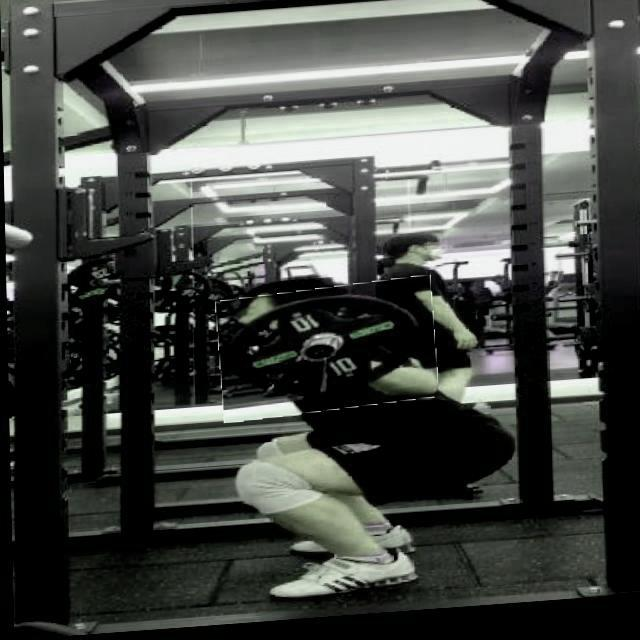barbell: (216, 285, 435, 425)
